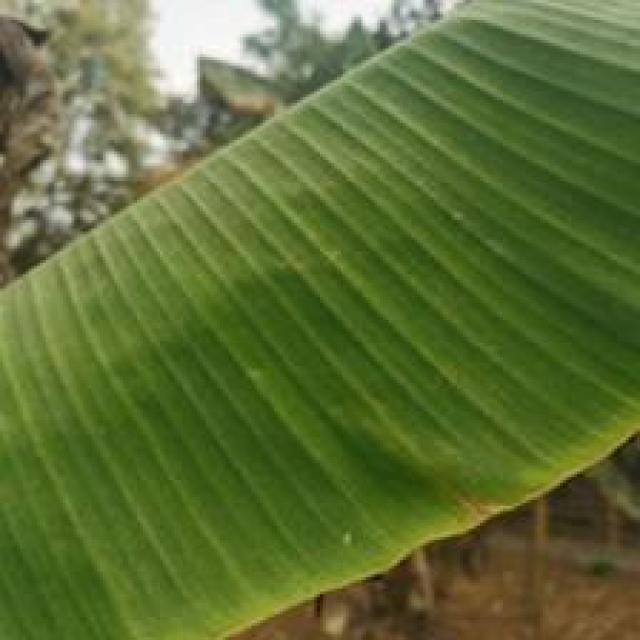Black_leaf_spot: (0, 0, 640, 589)
